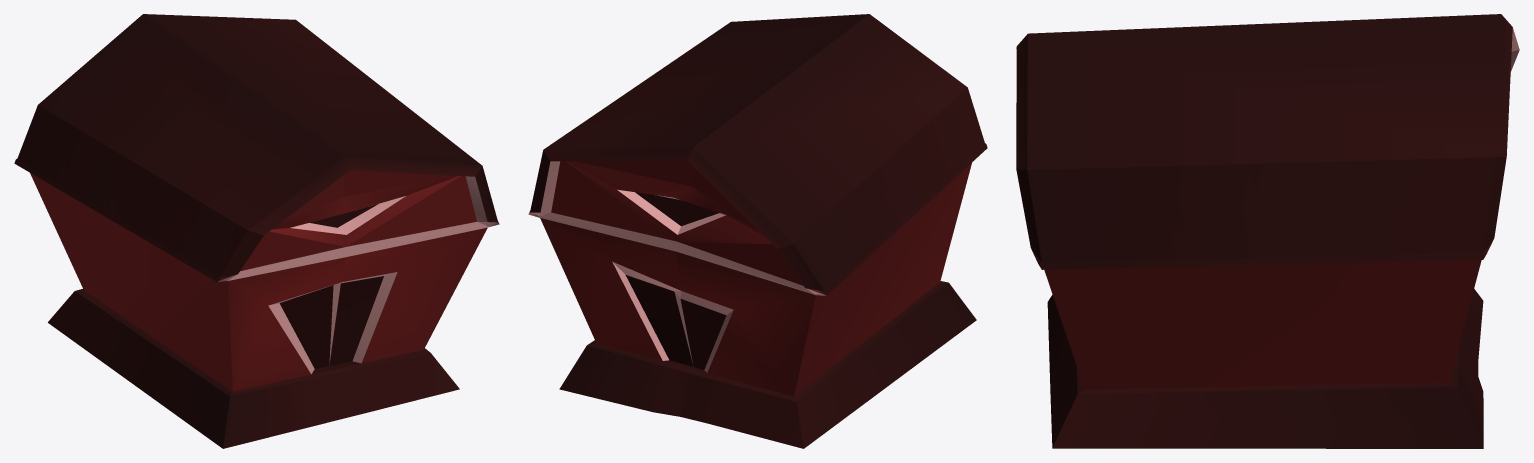
The model's file is c_farm_barn_closed_aa.fbx.
The picture shows the model from 3 angles, left to right: view 1: azimuth 30°, elevation 25°; view 2: azimuth 150°, elevation 25°; view 3: azimuth 270°, elevation 25°; orthographic projection. The views are drawn at different scales.
Parts seen in each view (by area): view 1: c_farm_barn_closed_aa; view 2: c_farm_barn_closed_aa; view 3: c_farm_barn_closed_aa.
Part boxes in pixels (x1=…): c_farm_barn_closed_aa: x1=14, y1=14, x2=499, y2=448; c_farm_barn_closed_aa: x1=528, y1=14, x2=987, y2=448; c_farm_barn_closed_aa: x1=1016, y1=14, x2=1519, y2=448.
Bounding box in the file's own units: 7.69 × 6.72 × 8.77.
